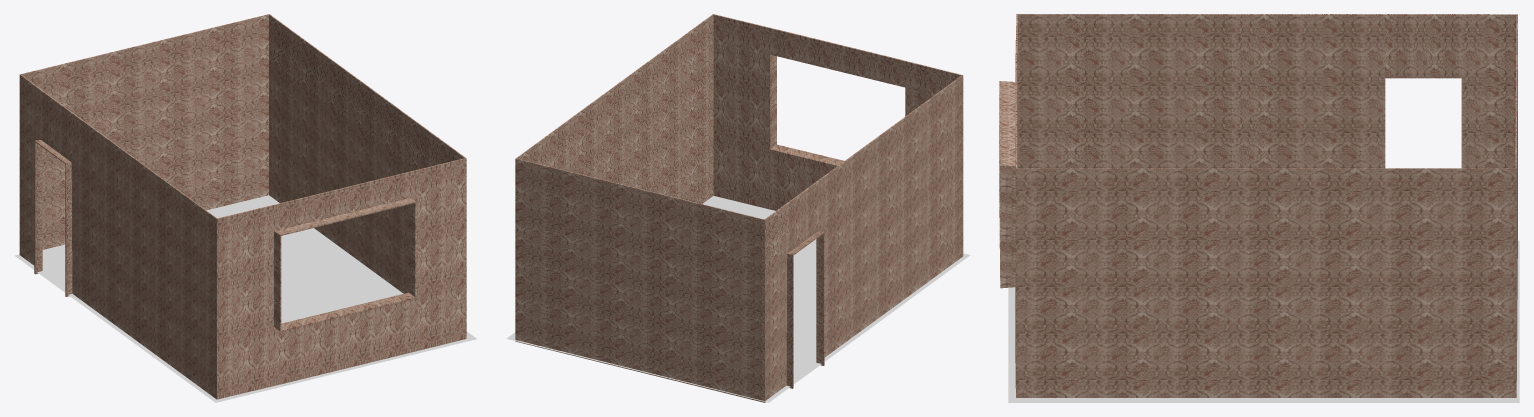
File: Room_Lounge.fbx
3 renders of one model, left to right at view 1: azimuth 30°, elevation 25°; view 2: azimuth 150°, elevation 25°; view 3: azimuth 270°, elevation 25°, orthographic. The views are drawn at different scales.
Visible parts, largest first — view 1: Walls.003, Plane.028; view 2: Walls.003, Plane.028; view 3: Walls.003, Plane.028.
Boxes of the visible parts, box(x1,y1,x2,y2) form: Walls.003: box(19, 14, 466, 399); Plane.028: box(15, 195, 476, 402); Walls.003: box(515, 14, 963, 402); Plane.028: box(506, 196, 970, 402); Walls.003: box(999, 14, 1517, 397); Plane.028: box(1008, 240, 1519, 402).
Size of the model in its own units: 641 by 423 by 863.
